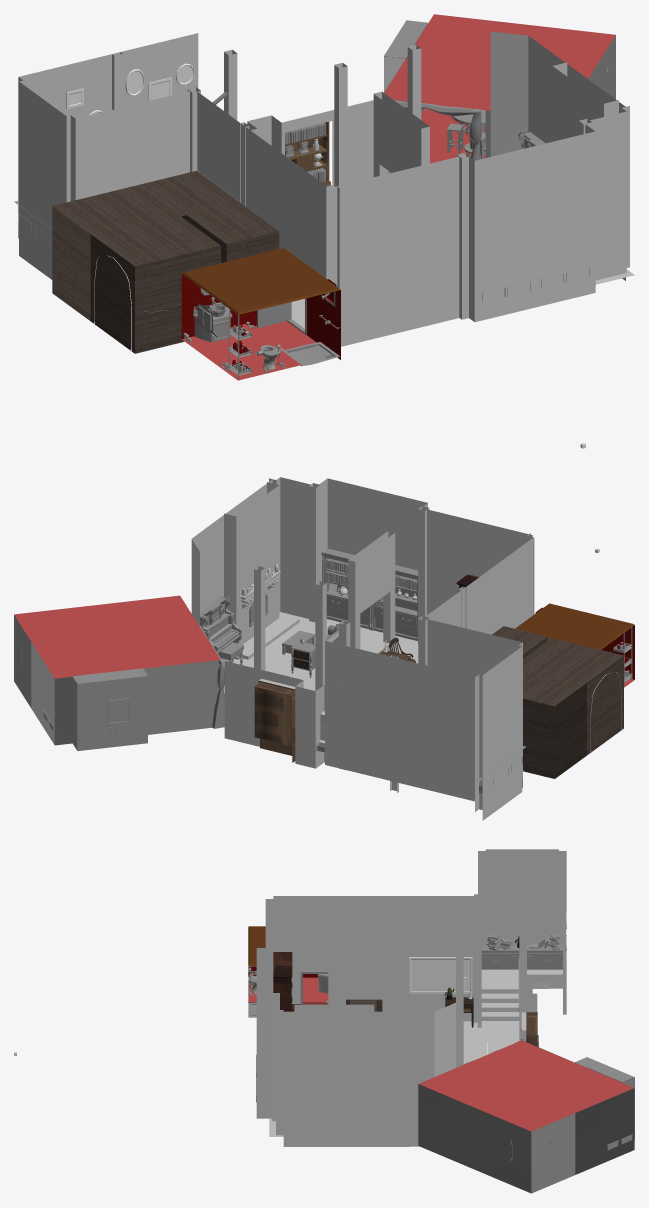
Rendered from inside_1f.FBX.
The picture shows the model from 3 angles, top to bottom: view 1: azimuth 30°, elevation 25°; view 2: azimuth 150°, elevation 25°; view 3: azimuth 270°, elevation 25°; orthographic projection. The views are drawn at different scales.
Parts seen in each view (by area): view 1: geosil_wall, low_top, hyungan_wall, geosil_gidung_sunban, restroom_wall_object, restroom_floor, kitchen_wall, jangsik_eckza, kitchen_floor, jihasil_door, kitchen_table, jihasil_door_books; view 2: geosil_wall, low_top, geosil_gidung_sunban, kitchen_wall, hyungan_wall, kitchen_boiler, geosil_floor, jihasil_door, checkjang_body, piano, restroom_wall_object, books_ujin (+3 smaller); view 3: geosil_wall, kitchen_wall, low_top, geosil_gidung_sunban, geosil_floor, geshipan, gyadan_sunab_nanro_sunban, geosil_jangsickjang, restroom_floor, restroom_wall_object, books_ujin.
Part boxes in pixels (x1,y1,x2,y2): geosil_wall: (19,31,626,346); low_top: (52,14,615,314); hyungan_wall: (52,206,279,353); geosil_gidung_sunban: (18,45,629,319); restroom_wall_object: (181,274,340,378); restroom_floor: (182,321,339,380); kitchen_wall: (384,18,615,173); jangsik_eckza: (66,63,194,115); kitchen_floor: (421,104,485,163); jihasil_door: (285,122,330,186); kitchen_table: (447,106,485,158); jihasil_door_books: (285,123,326,181); geosil_wall: (191,477,533,820); low_top: (14,595,634,705); geosil_gidung_sunban: (254,477,534,811); kitchen_wall: (14,615,224,745); hyungan_wall: (523,637,623,778); kitchen_boiler: (72,676,147,751); geosil_floor: (223,612,418,694); jihasil_door: (254,680,295,762); checkjang_body: (321,549,417,641); piano: (200,596,243,669); restroom_wall_object: (535,607,634,685); books_ujin: (325,558,417,606); geosil_wall: (256,849,566,1146); kitchen_wall: (418,1039,634,1193); low_top: (248,926,634,1131); geosil_gidung_sunban: (265,851,566,1135); geosil_floor: (269,969,566,1136); geshipan: (409,957,472,993); gyadan_sunab_nanro_sunban: (481,945,562,1009); geosil_jangsickjang: (273,952,301,1011); restroom_floor: (248,977,328,1017); restroom_wall_object: (248,966,328,1004); books_ujin: (486,933,560,950).
Bounding box in the file's own units: 1772 × 492 × 2027.
